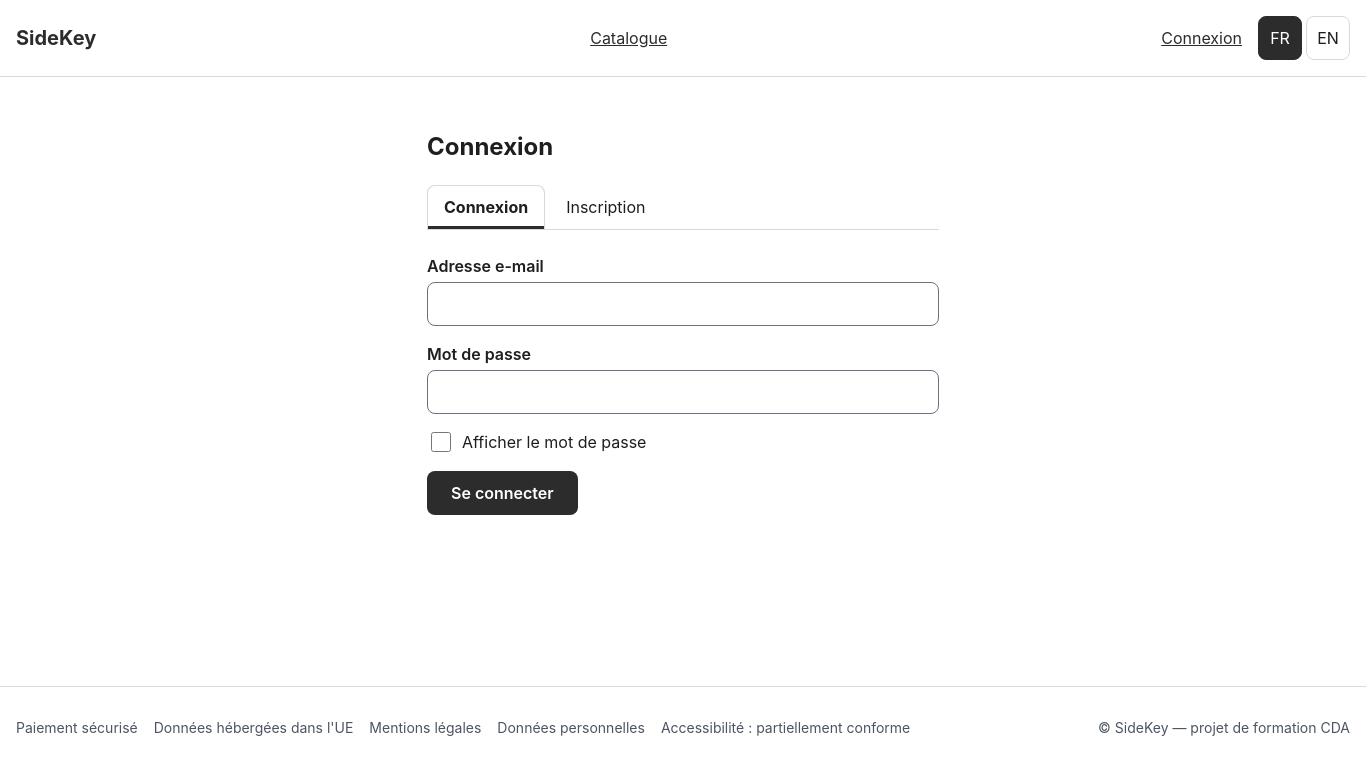
it: étape « code » › remplace le formulaire de mot de passe par la saisie du code, le titre reçoit le focus
This screenshot has width=1366, height=768.
In the field labelled "Adresse e-mail": (683, 304) [427,282,939,326], type "karim@example.test"
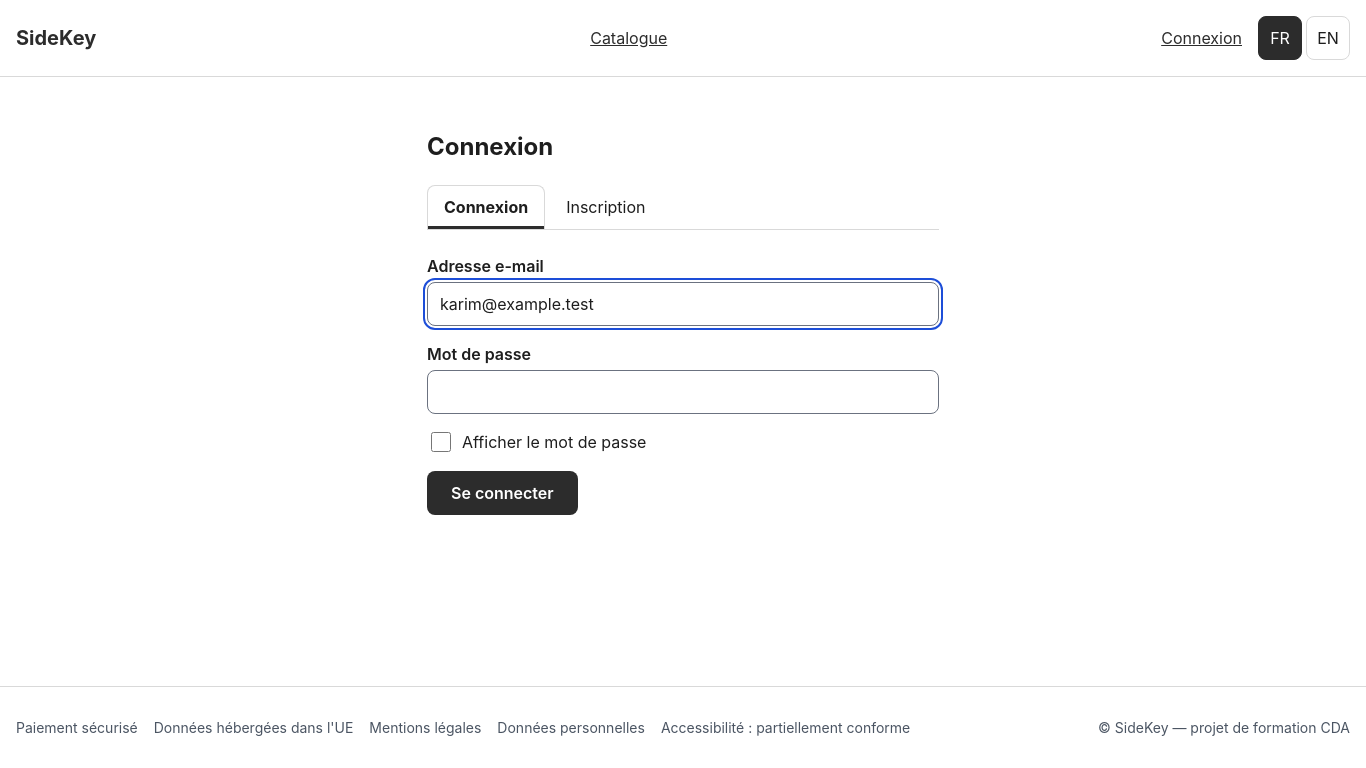
In the password field labelled "Mot de passe": (683, 392) [427,370,939,414], type "une phrase de passe solide"
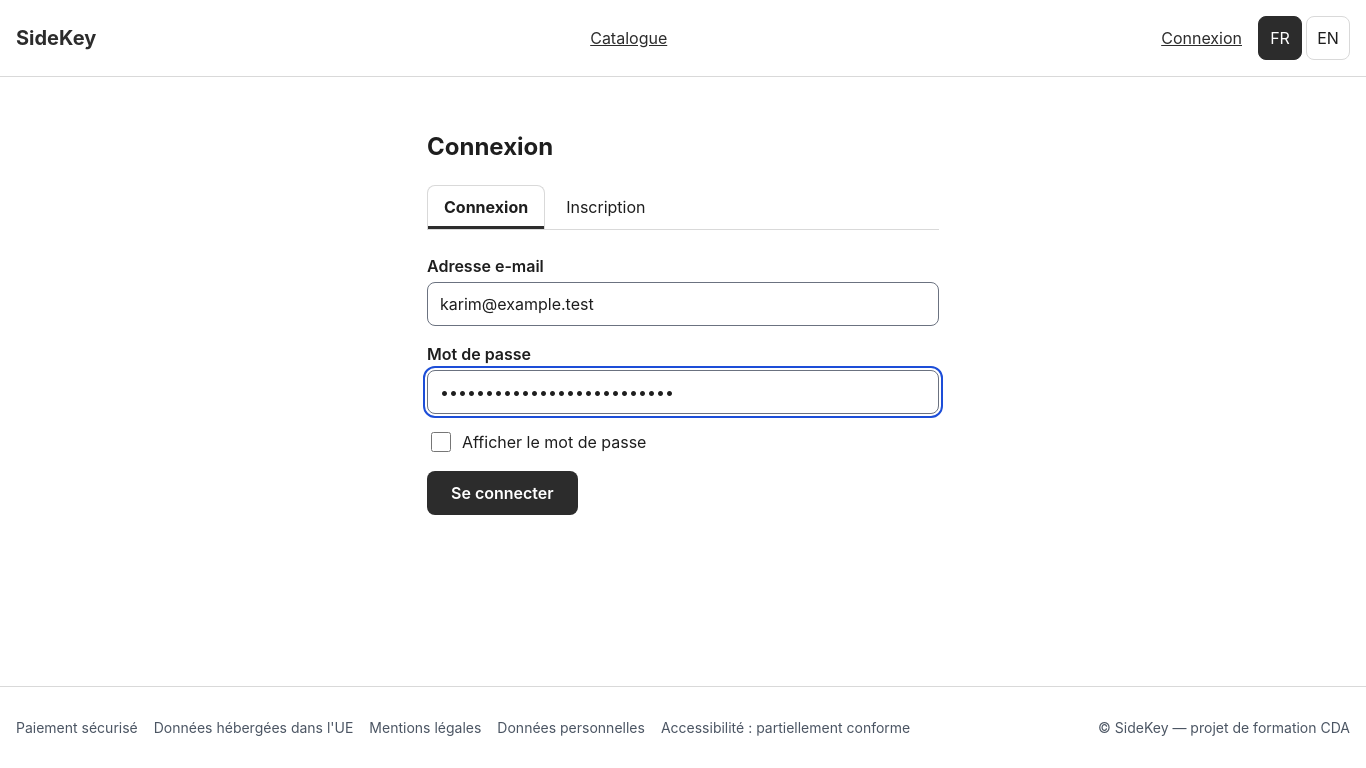
Click the button "Se connecter": click(502, 493) [427,471,578,515]
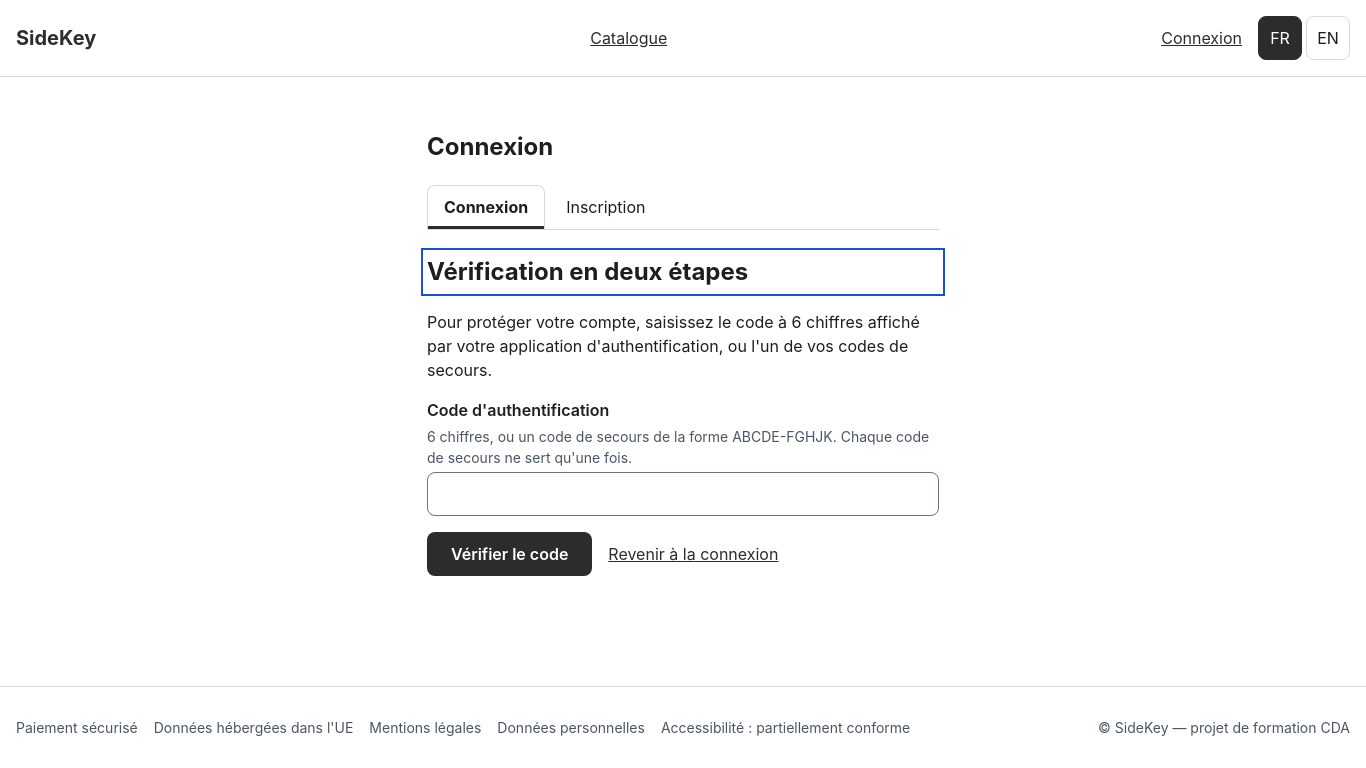
Check: the heading "Vérification en deux étapes" is shown, box [427,257,748,286]
Check: the label labelled "Mot de passe" is gone
